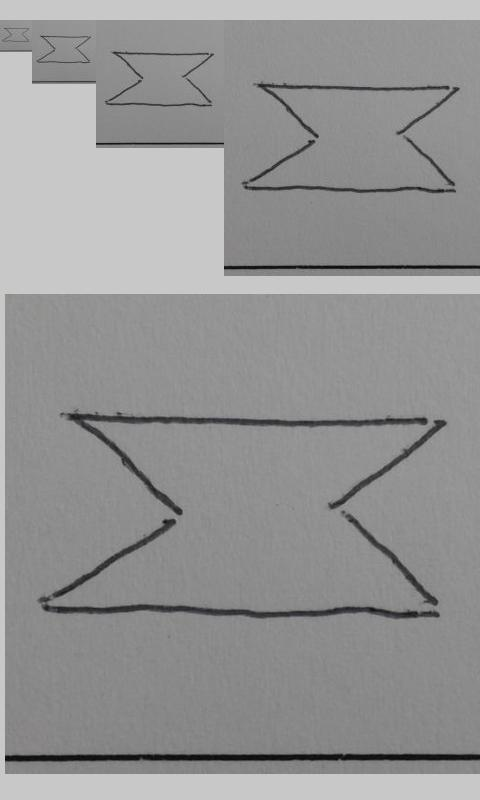edit_text: (39, 409, 448, 625), (242, 82, 461, 194), (105, 50, 214, 108), (36, 35, 92, 64), (2, 27, 31, 43)
